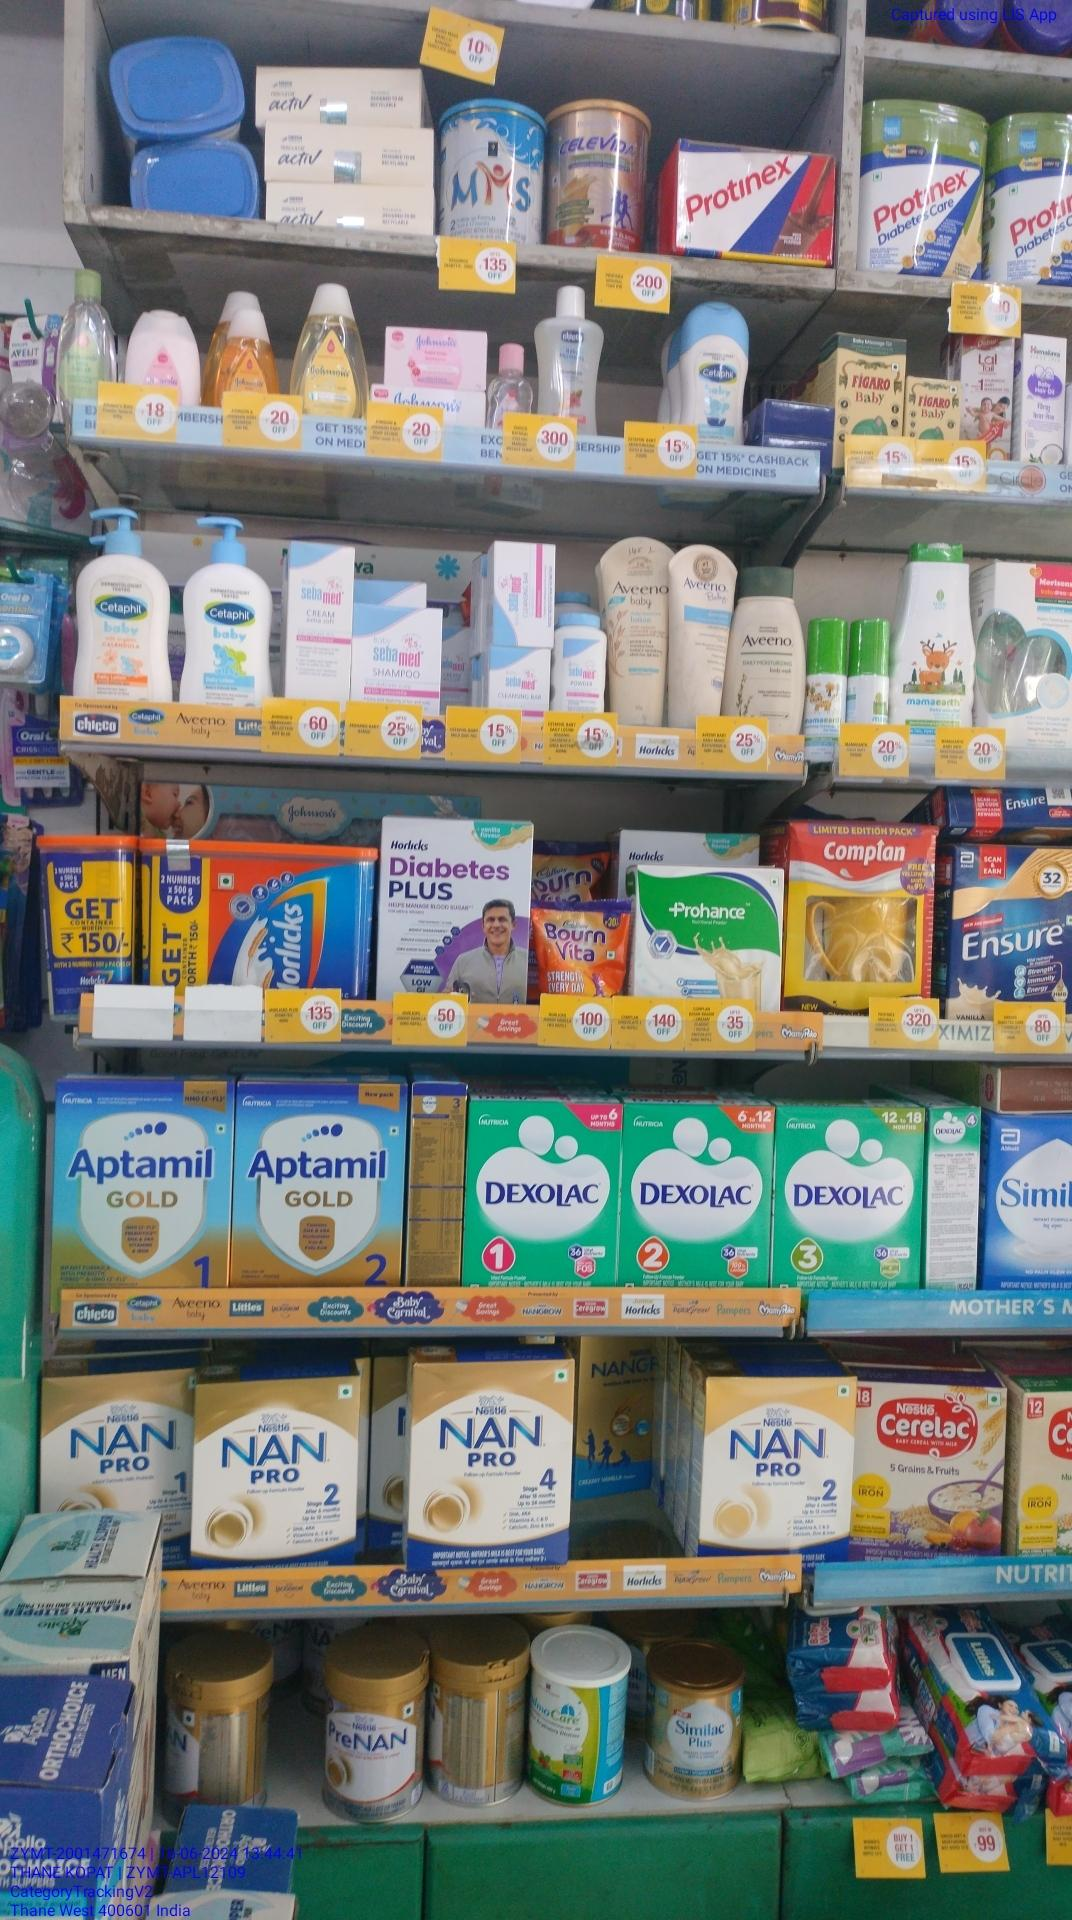ENSURE_VANILLA_400_G_PACK: (952, 843, 1072, 997)
HORLICK_MALT_1_KG_CONTAINER: (142, 835, 369, 996)
